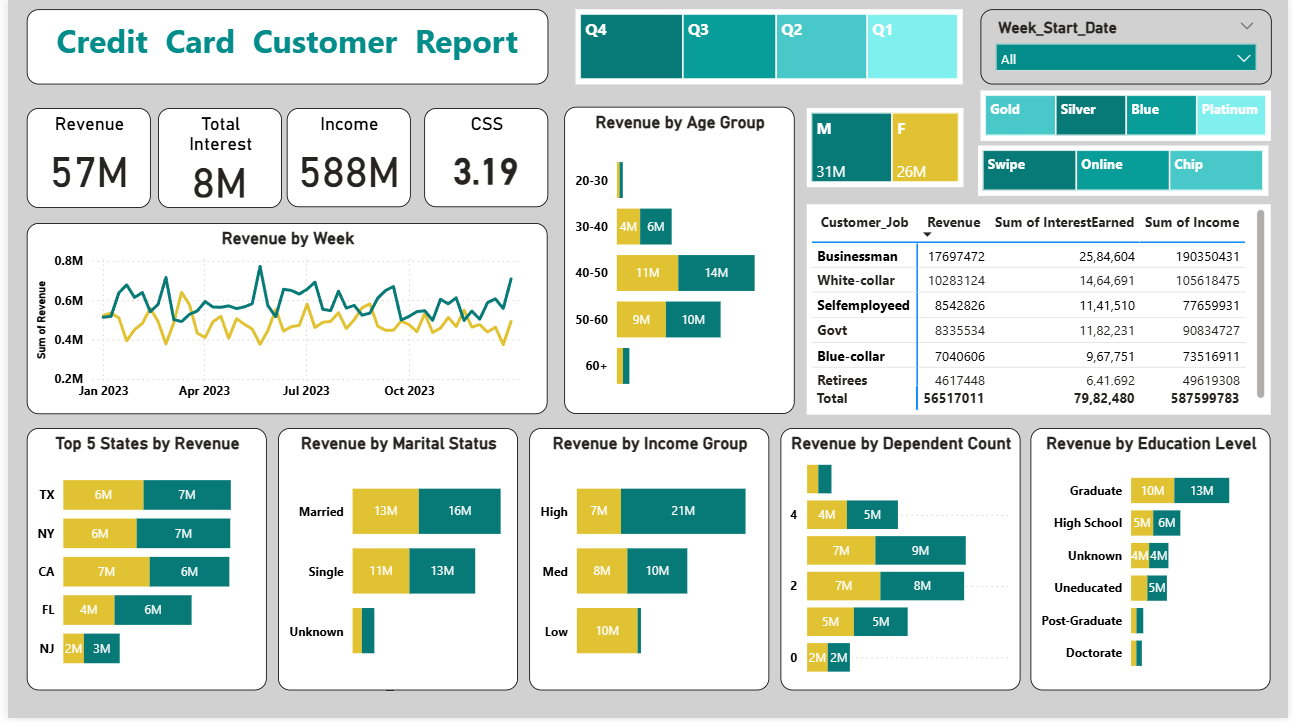

This screenshot's page, from the dashboard's own definition file:
{"tool":"powerbi","page":{"name":"CC Customer  Report","canvas":[1280,720],"ordinal":1},"visuals":[{"type":"textbox","box":[18.7,11.5,521.3,74.9],"z":0},{"type":"lineChart","title":"Revenue by Week","fields":{"Y":["Sum(ccdb cc_detail.Revenue)"],"Series":["ccdb cust_detail.Gender"],"Category":["ccdb cc_detail.Week_Start_Date.Variation.Date Hierarchy.Year","ccdb cc_detail.Week_Start_Date.Variation.Date Hierarchy.Month","ccdb cc_detail.Week_Start_Date.Variation.Date Hierarchy.Day"]},"box":[18.5,225.1,520.7,191.5],"z":1000},{"type":"barChart","title":"Revenue by Income Group","fields":{"Y":["Sum(ccdb cc_detail.Revenue)"],"Category":["ccdb cust_detail.IncomeGroup"],"Series":["ccdb cust_detail.Gender"]},"box":[520.7,430,240.2,262],"z":2000},{"type":"barChart","title":"Revenue by Dependent Count","fields":{"Y":["Sum(ccdb cc_detail.Revenue)"],"Category":["ccdb cust_detail.Dependent_Count"],"Series":["ccdb cust_detail.Gender"]},"box":[773,430,240.2,262],"z":3000},{"type":"barChart","title":"Revenue by Education Level","fields":{"Y":["Sum(ccdb cc_detail.Revenue)"],"Category":["ccdb cust_detail.Education_Level"],"Series":["ccdb cust_detail.Gender"]},"box":[1023,430,240.2,262],"z":4000},{"type":"barChart","title":"Top 5 States by Revenue","fields":{"Y":["Sum(ccdb cc_detail.Revenue)"],"Category":["ccdb cust_detail.State_cd"],"Series":["ccdb cust_detail.Gender"]},"box":[18.5,430,240,262],"z":5000},{"type":"pivotTable","fields":{"Rows":["ccdb cust_detail.Customer_Job"],"Values":["Sum(ccdb cc_detail.Revenue)","Sum(ccdb cc_detail.Interest_Earned)","Sum(ccdb cust_detail.Income)"]},"box":[799.2,205.9,463.7,210.2],"z":6000},{"type":"card","title":"Revenue","fields":{"Values":["Sum(ccdb cc_detail.Revenue)"]},"box":[18.7,109.4,124,100],"z":7000},{"type":"card","title":"Income","fields":{"Values":["Sum(ccdb cust_detail.Income)"]},"box":[279.4,109.4,123.8,99.4],"z":8000},{"type":"card","title":"Total Interest","fields":{"Values":["Sum(ccdb cc_detail.Interest_Earned)"]},"box":[149.8,109.4,124,100],"z":9000},{"type":"card","title":"CSS","fields":{"Values":["Avg(ccdb cust_detail.Cust_Satisfaction_Score)"]},"box":[416.2,109.4,123.8,99.4],"z":10000},{"type":"slicer","fields":{"Values":["ccdb cc_detail.Week_Start_Date"]},"box":[972,11.5,290.9,74.9],"z":11000},{"type":"treemap","fields":{"Group":["ccdb cc_detail.Qtr"],"Values":["Avg(ccdb cc_detail.Client_Num)"]},"box":[567.4,11.5,387.4,74.9],"z":12000},{"type":"treemap","fields":{"Group":["ccdb cust_detail.Gender"],"Values":["Sum(ccdb cc_detail.Revenue)"]},"box":[799.2,109.4,157,79.2],"z":13000},{"type":"treemap","fields":{"Values":["Avg(ccdb cc_detail.Client_Num)"],"Group":["ccdb cc_detail.Card_Category"]},"box":[972.6,92,290.6,50],"z":14000},{"type":"treemap","fields":{"Group":["ccdb cc_detail.Use_Chip"],"Values":["Avg(ccdb cc_detail.Client_Num)"]},"box":[970.6,148,290,50],"z":15000},{"type":"barChart","title":"Revenue by Age Group","fields":{"Y":["Sum(ccdb cc_detail.Revenue)"],"Category":["ccdb cust_detail.AgeGroup"],"Series":["ccdb cust_detail.Gender"]},"box":[556,109.2,230.1,307.4],"z":16000},{"type":"barChart","title":"Revenue by Marital Status","fields":{"Y":["Sum(ccdb cc_detail.Revenue)"],"Category":["ccdb cust_detail.Marital_Status"],"Series":["ccdb cust_detail.Gender"]},"box":[270,430,240.2,262],"z":17000}]}

Visuals, with their boxes in screenshot pixels (x1, y1, x2, y2), scaled from the page's 1280x720 canvas onto the 1292x722 screenshot:
textbox: x1=19, y1=12, x2=545, y2=87
"Revenue by Week" lineChart: x1=19, y1=226, x2=544, y2=418
"Revenue by Income Group" barChart: x1=526, y1=431, x2=768, y2=694
"Revenue by Dependent Count" barChart: x1=780, y1=431, x2=1023, y2=694
"Revenue by Education Level" barChart: x1=1033, y1=431, x2=1275, y2=694
"Top 5 States by Revenue" barChart: x1=19, y1=431, x2=261, y2=694
pivotTable - ccdb cust_detail.Customer_Job x Sum(ccdb cc_detail.Revenue): x1=807, y1=206, x2=1275, y2=417
"Revenue" card: x1=19, y1=110, x2=144, y2=210
"Income" card: x1=282, y1=110, x2=407, y2=209
"Total Interest" card: x1=151, y1=110, x2=276, y2=210
"CSS" card: x1=420, y1=110, x2=545, y2=209
slicer - ccdb cc_detail.Week_Start_Date: x1=981, y1=12, x2=1275, y2=87
treemap - ccdb cc_detail.Qtr x Avg(ccdb cc_detail.Client_Num): x1=573, y1=12, x2=964, y2=87
treemap - ccdb cust_detail.Gender x Sum(ccdb cc_detail.Revenue): x1=807, y1=110, x2=965, y2=189
treemap - Avg(ccdb cc_detail.Client_Num) x ccdb cc_detail.Card_Category: x1=982, y1=92, x2=1275, y2=142
treemap - ccdb cc_detail.Use_Chip x Avg(ccdb cc_detail.Client_Num): x1=980, y1=148, x2=1272, y2=199
"Revenue by Age Group" barChart: x1=561, y1=110, x2=793, y2=418
"Revenue by Marital Status" barChart: x1=273, y1=431, x2=515, y2=694
